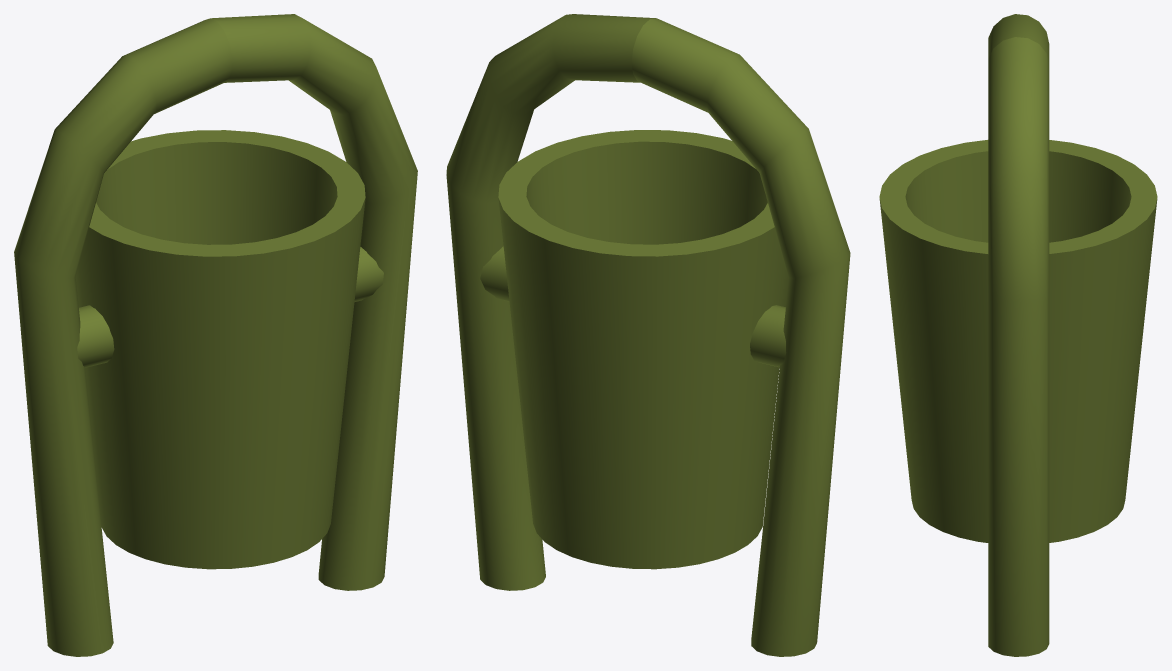
Rendered from trash can 1.fbx.
The picture shows the model from 3 angles, left to right: view 1: azimuth 30°, elevation 25°; view 2: azimuth 150°, elevation 25°; view 3: azimuth 270°, elevation 25°; orthographic projection. The views are drawn at different scales.
Visible parts, largest first — view 1: trash can 1; view 2: trash can 1; view 3: trash can 1.
Part boxes in pixels (x1=…): trash can 1: x1=14, y1=14, x2=417, y2=656; trash can 1: x1=446, y1=14, x2=850, y2=656; trash can 1: x1=879, y1=14, x2=1157, y2=656.
Bounding box in the file's own units: 115 × 164 × 75.63.
